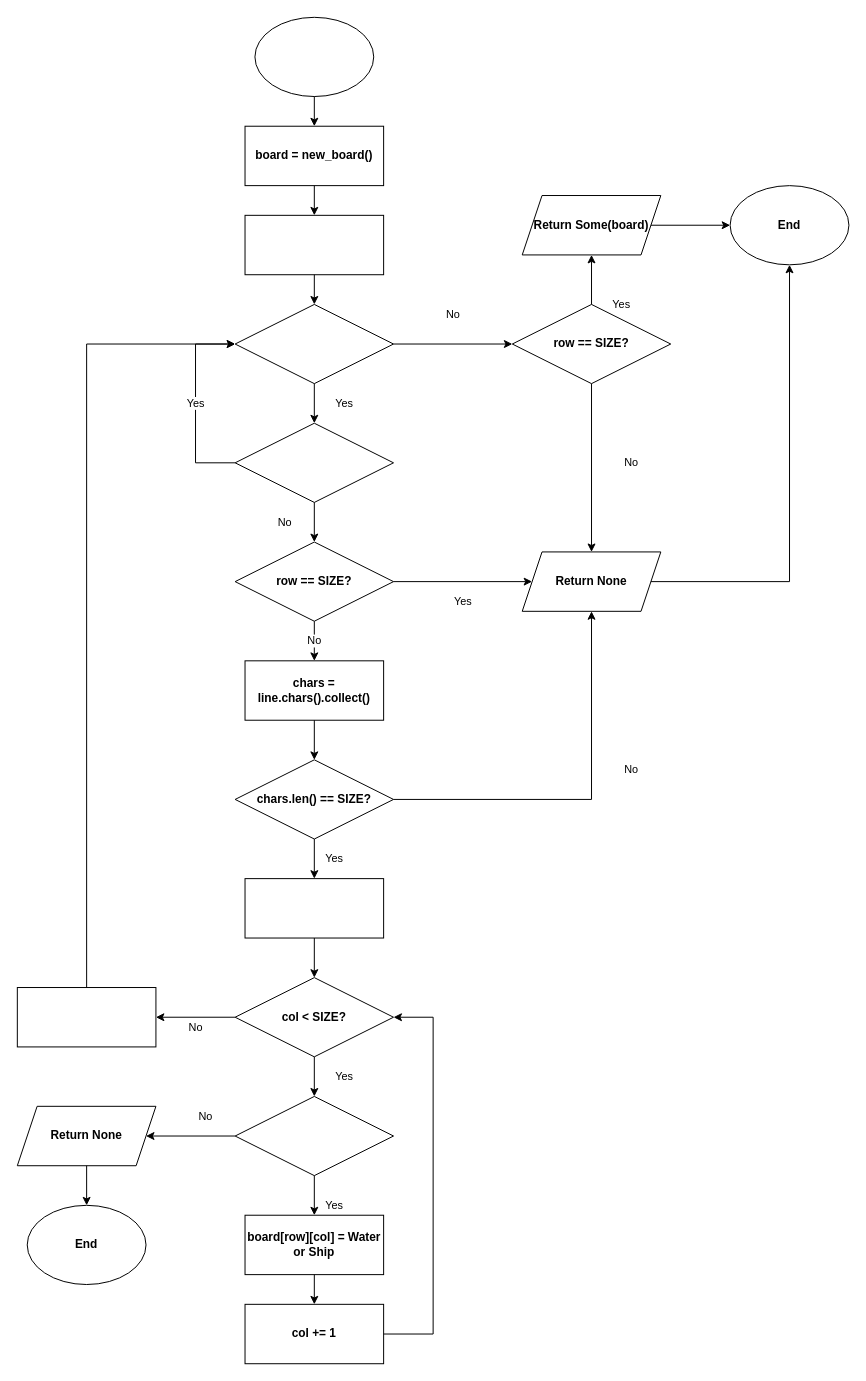
The diagram is 866 pixels wide and 1381 high, and some of its shapes have lost their labels. The shapes that lost their labels are listed below. From the top down, each one's centre as x and y in pixels, then its label:
At [314,56]: "Start".
At [314,244]: "row = 0".
At [314,343]: "next line in text.lines()?".
At [314,462]: "line blank or starts with #?".
At [314,908]: "col = 0".
At [86,1017]: "row += 1".
At [314,1135]: "chars[col] is '.' or 'S'?".
